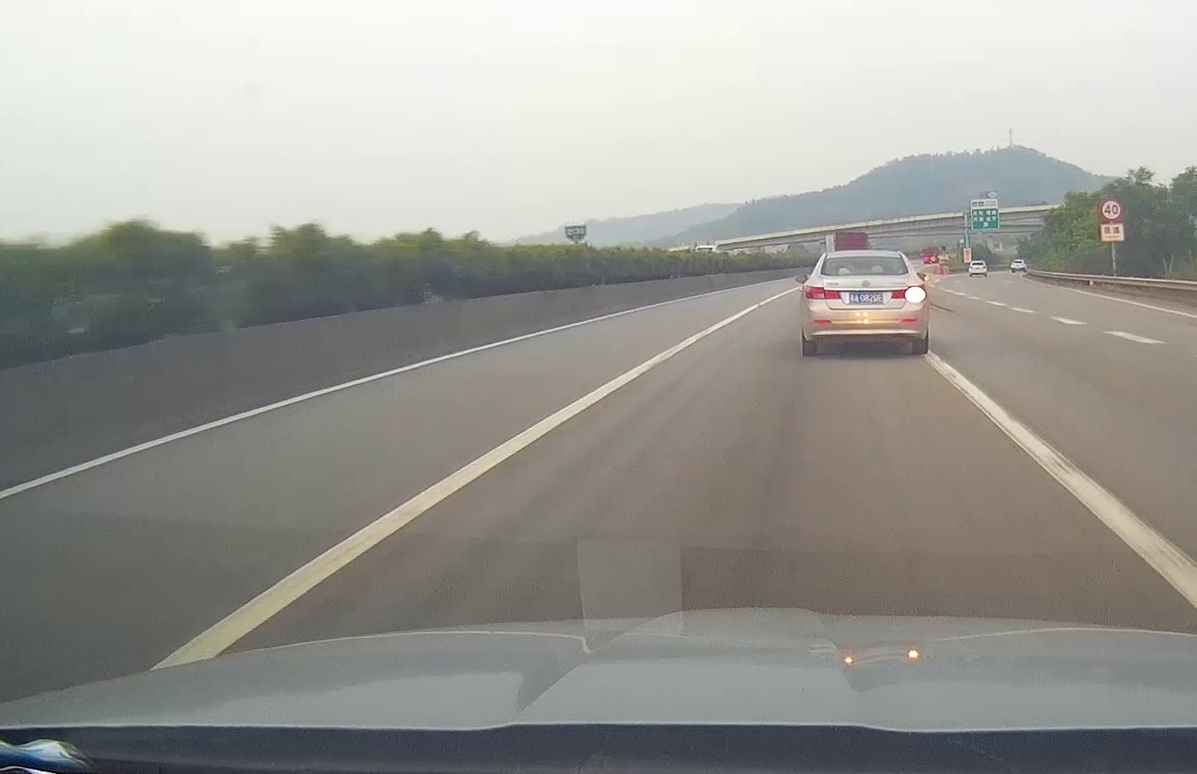L_light: (804, 285, 842, 300)
R_light: (891, 283, 927, 300)
T_light: (855, 272, 879, 275)
day-right: (799, 250, 928, 357)
